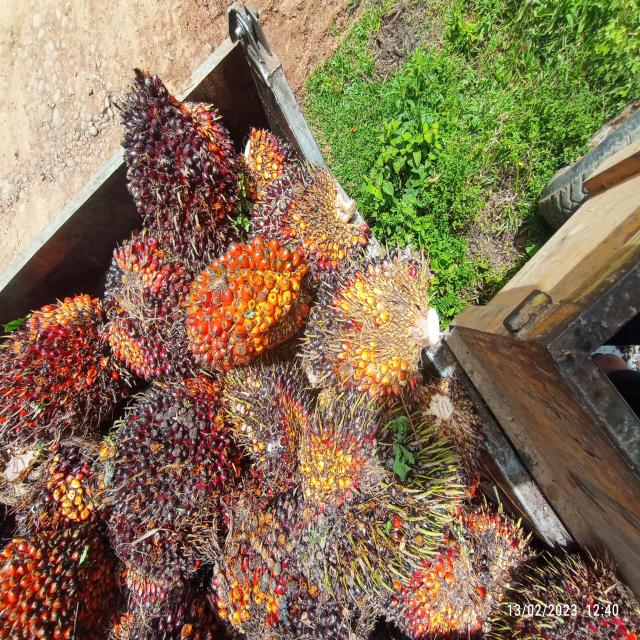fraksi 00: (271, 384, 467, 604), (287, 237, 440, 431), (215, 483, 361, 640), (10, 419, 106, 542), (220, 358, 308, 474)
fraksi 1: (97, 380, 239, 571), (109, 65, 235, 252), (86, 234, 218, 369), (246, 153, 362, 306)
fraksi 3: (0, 292, 118, 460)
fraksi 4: (175, 235, 319, 376), (0, 514, 108, 640)
